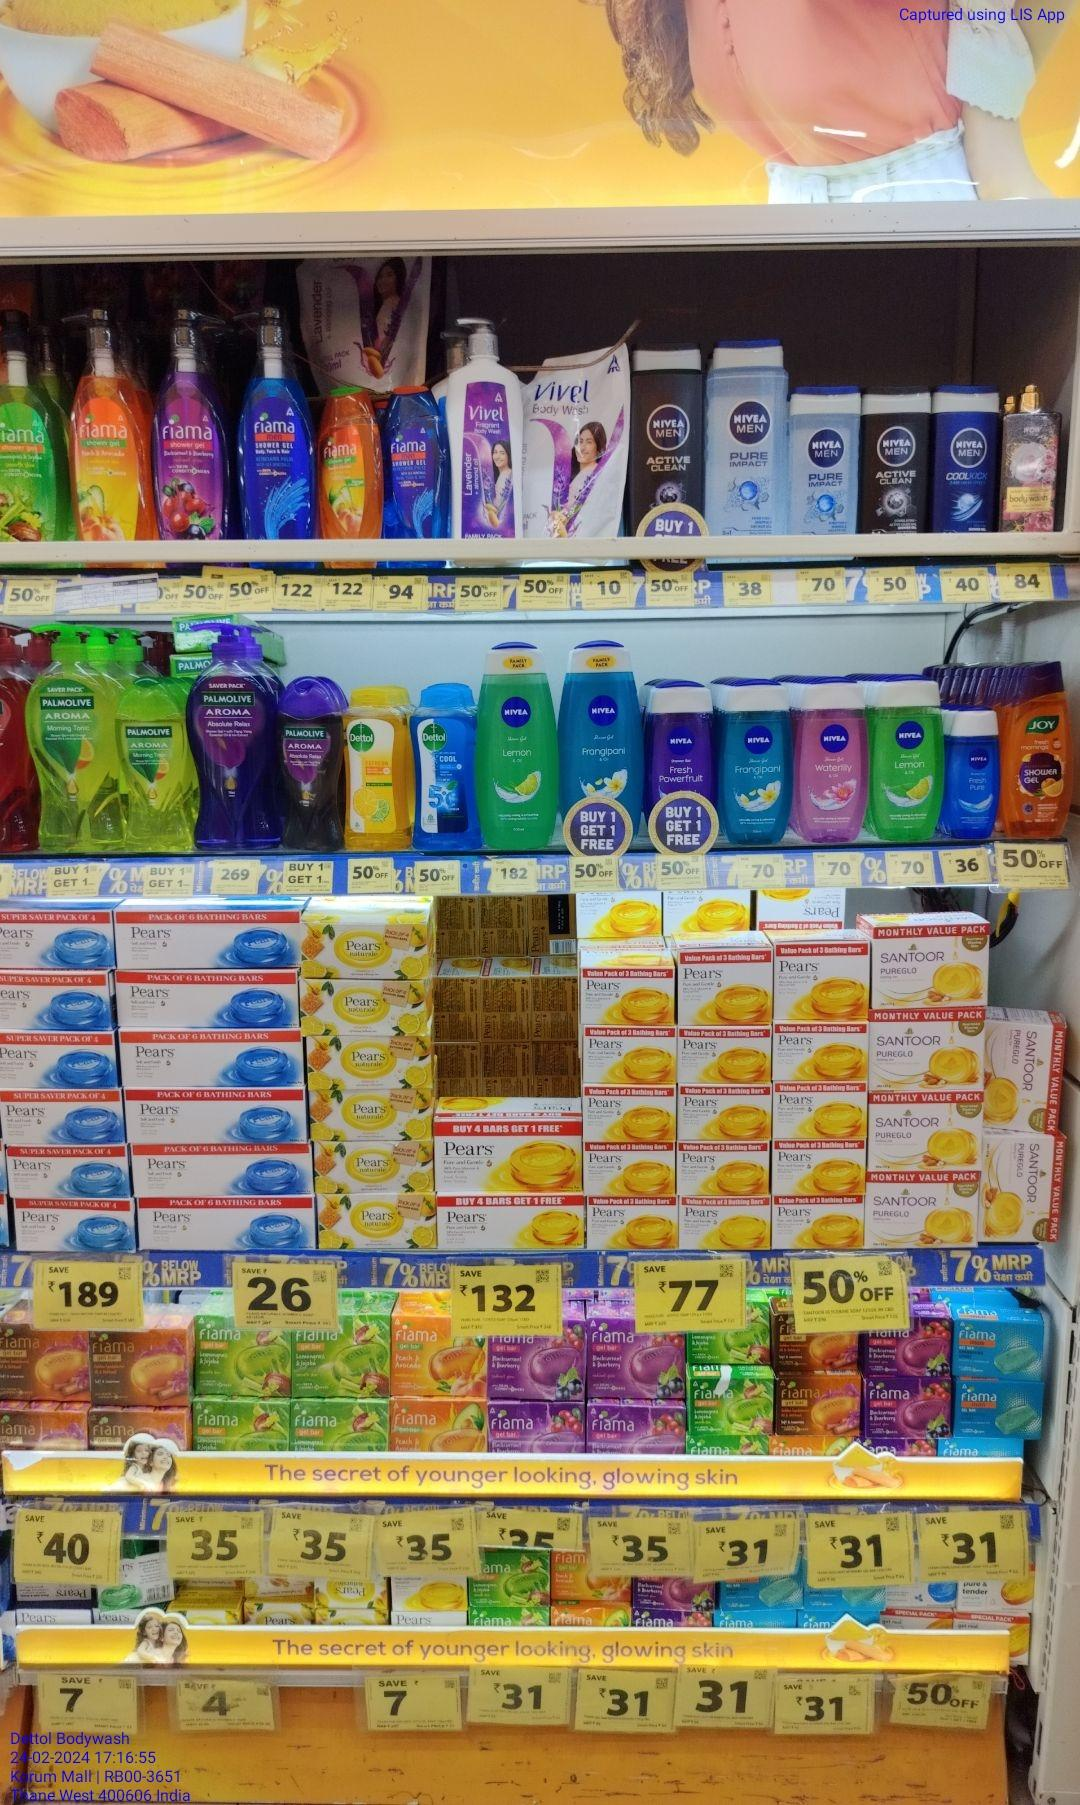Dettol_Bodywash_Cool: (417, 687, 476, 854)
Dettol_Bodywash_Refresh: (342, 687, 414, 851)
Nivea_Shower_Gel_Frangipani_and_Oil_250ML: (562, 644, 643, 845), (723, 683, 789, 843)
Nivea_Shower_Gel_Fresh_Powerfruit_250ML: (649, 683, 717, 850)
Nivea_Shower_Gel_Lemon_and_Oil_250ML: (478, 643, 555, 846), (874, 681, 942, 841)
Nivea_Shower_Gel_Waterlily_and_Oil_250ML: (797, 681, 865, 843)
Palmolive_Aroma_Relax_250ML: (276, 676, 338, 849)
